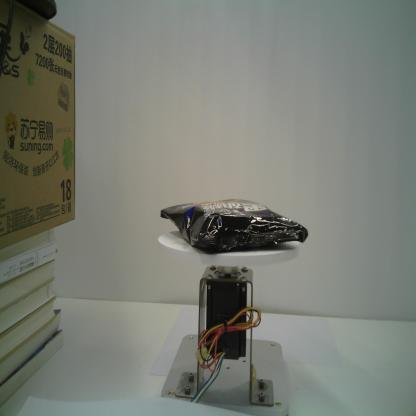Instant Noodles: (159, 199, 309, 253)
